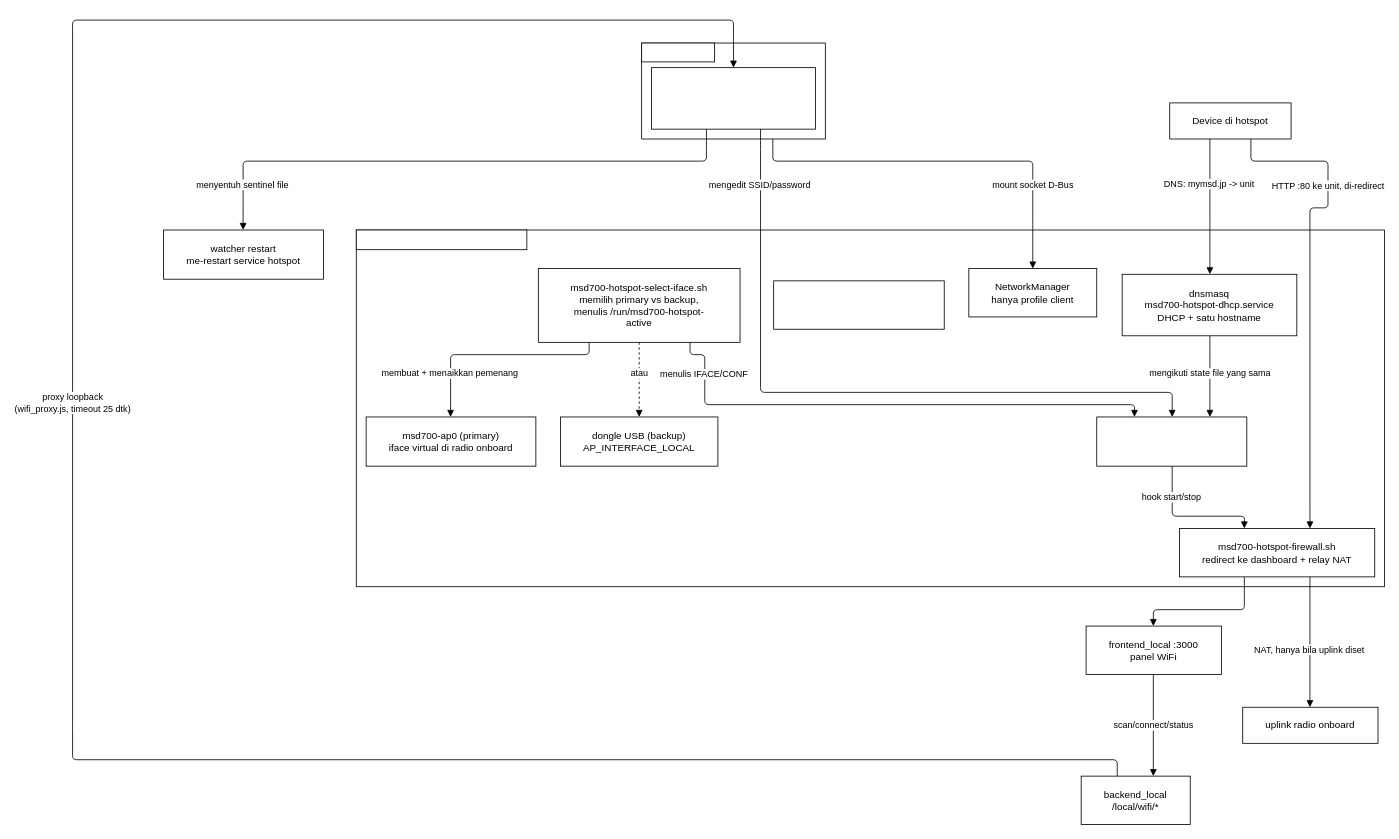
This 1399x839 diagram has some shape labels left out. Each missing label, with the centre of its shape:
"drop-in NetworkManager membiarkan iface AP sendiri" goes at (x=858, y=304).
"Host (Jetson atau laptop dev), Linux" goes at (x=441, y=239).
"hostapd msd700-hotspot.service" goes at (x=1171, y=441).
"network-agent (Node) loopback :5011 host network, NET_ADMIN" goes at (x=733, y=98).
"network_local" goes at (x=678, y=52).
